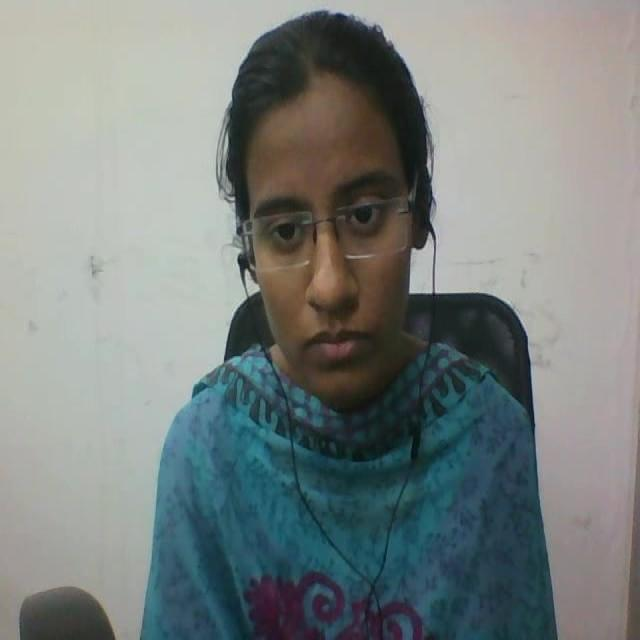Engaged: (220, 2, 456, 429)
